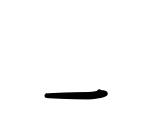minus: (44, 89, 108, 101)
